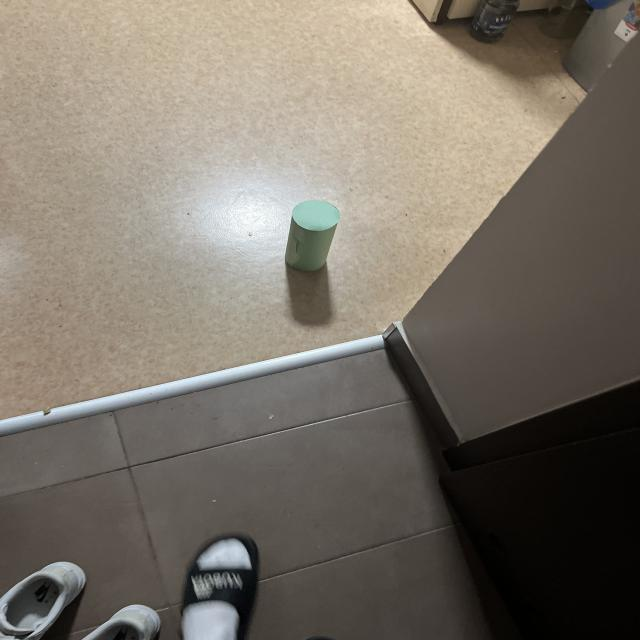meta: (285, 200, 340, 271)
